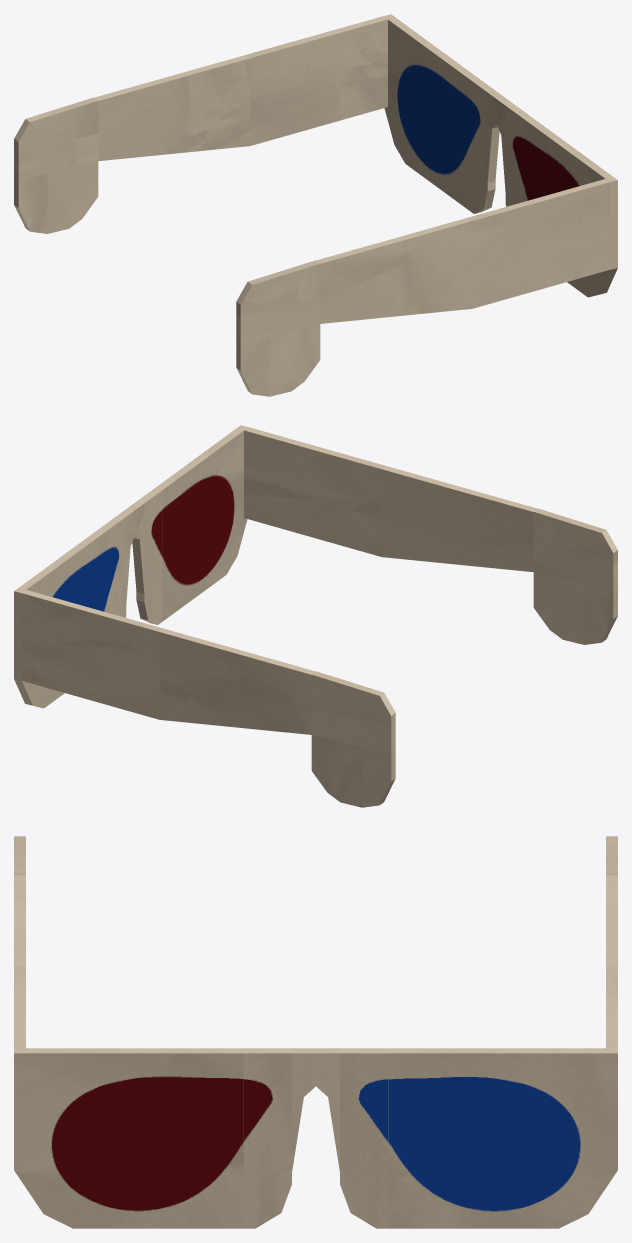
Rendered from scp_178.obj.
3 renders of one model, top to bottom at view 1: azimuth 30°, elevation 25°; view 2: azimuth 150°, elevation 25°; view 3: azimuth 270°, elevation 25°, orthographic. The views are drawn at different scales.
Visible parts, largest first — view 1: scp178; view 2: scp178; view 3: scp178.
Part boxes in pixels (box(x1,y1,x2,y2)): scp178: box(14, 14, 617, 396); scp178: box(14, 425, 617, 807); scp178: box(14, 836, 617, 1228).
Size of the model in its own units: 48 by 16 by 50.
1 material, 1 textured.
